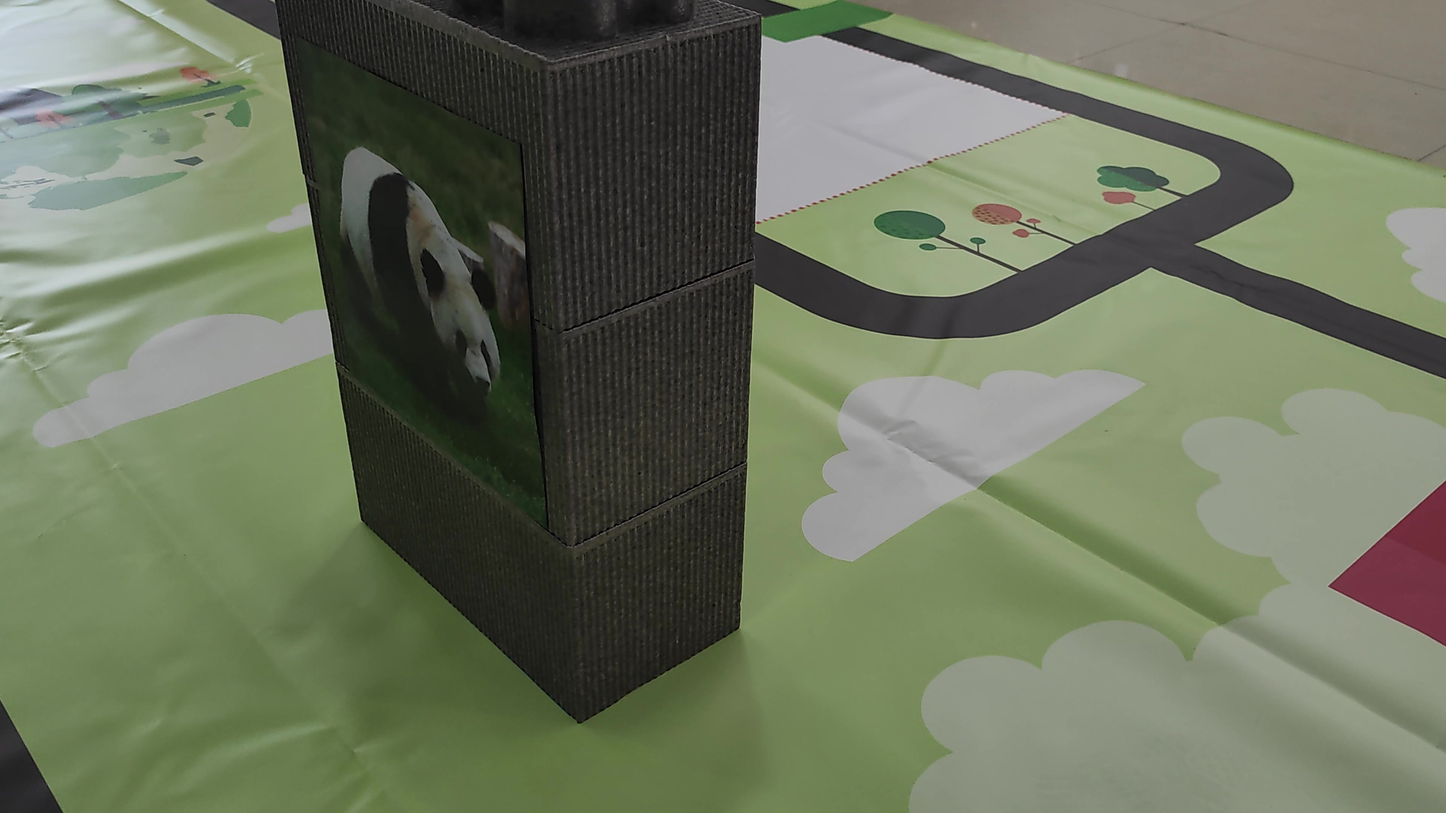panda: (318, 139, 510, 424)
